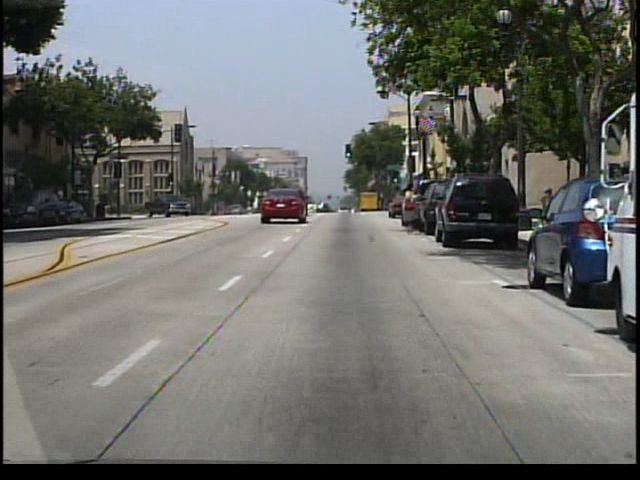person: (399, 181, 426, 236)
